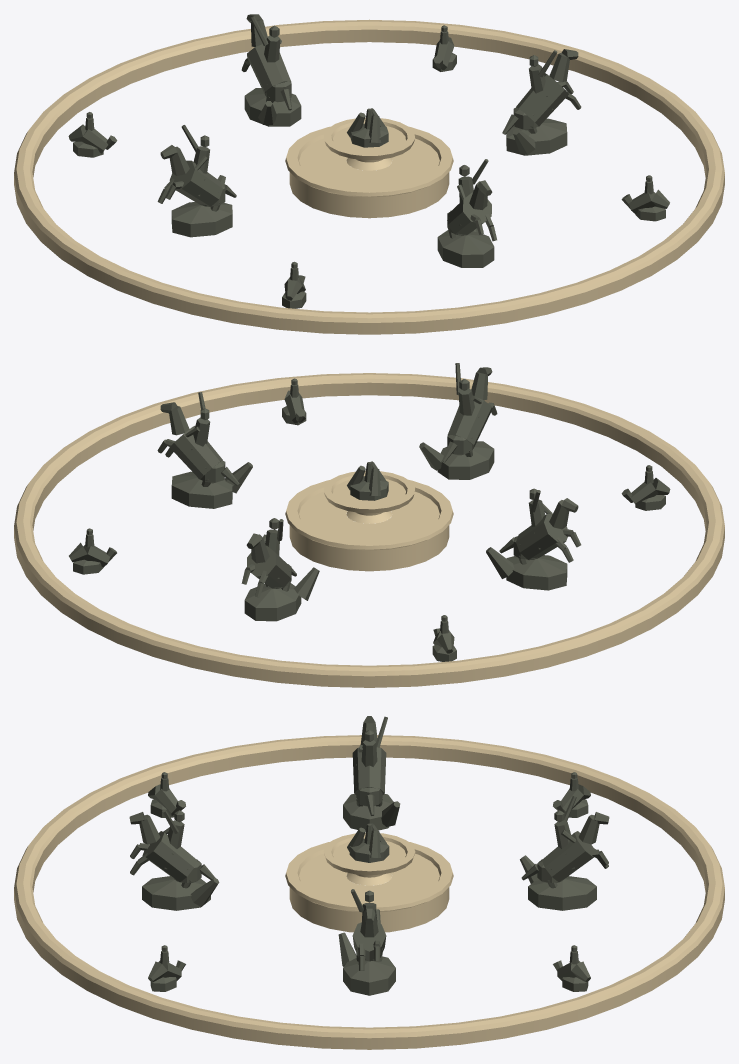
File: kc-jc-nichols-fountain.glb
The picture shows the model from 3 angles, top to bottom: view 1: azimuth 30°, elevation 25°; view 2: azimuth 150°, elevation 25°; view 3: azimuth 270°, elevation 25°; orthographic projection.
Visible parts, largest first — view 1: J.C. Nichols Memorial Fountain; view 2: J.C. Nichols Memorial Fountain; view 3: J.C. Nichols Memorial Fountain.
Part boxes in pixels (<box>): J.C. Nichols Memorial Fountain: <box>14,14,724,334</box>; J.C. Nichols Memorial Fountain: <box>14,363,724,687</box>; J.C. Nichols Memorial Fountain: <box>14,716,724,1049</box>.
Size of the model in its own units: 23.2 by 3.48 by 23.2.
